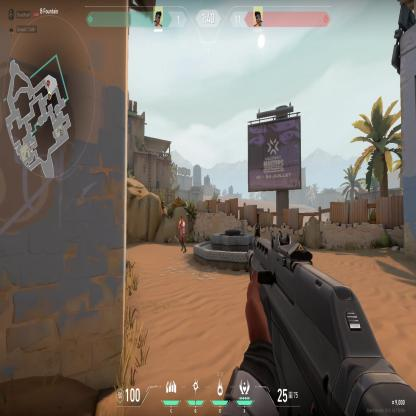enemy: (178, 214, 187, 254)
